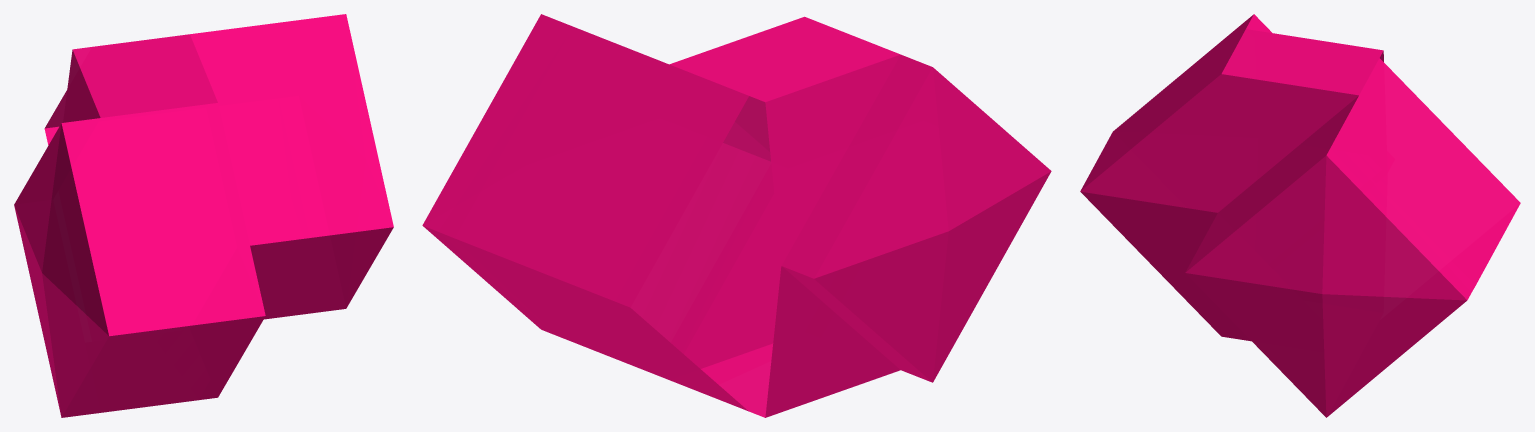
File: SVV_Fragment8.gltf
3 renders of one model, left to right at view 1: azimuth 30°, elevation 25°; view 2: azimuth 150°, elevation 25°; view 3: azimuth 270°, elevation 25°, orthographic. The views are drawn at different scales.
Parts seen in each view (by area): view 1: Fragment8; view 2: Fragment8; view 3: Fragment8.
Part boxes in pixels (left/top/right/bottom): Fragment8: left=14, top=14, right=393, bottom=417; Fragment8: left=422, top=14, right=1051, bottom=417; Fragment8: left=1080, top=14, right=1520, bottom=417.
Size of the model in its own units: 1810 by 1312 by 1995.
